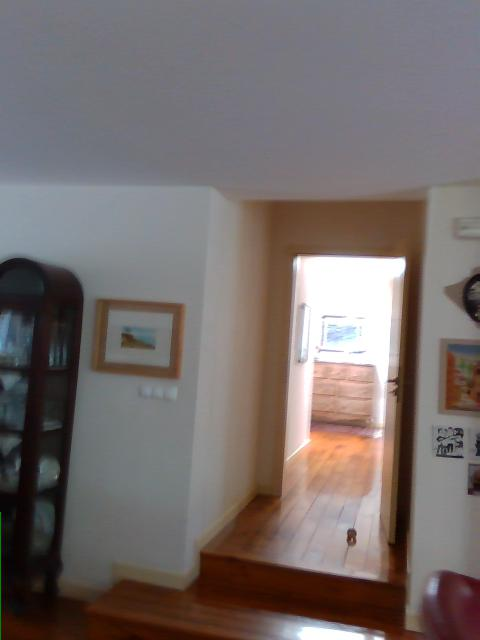open_door: (275, 241, 409, 541)
